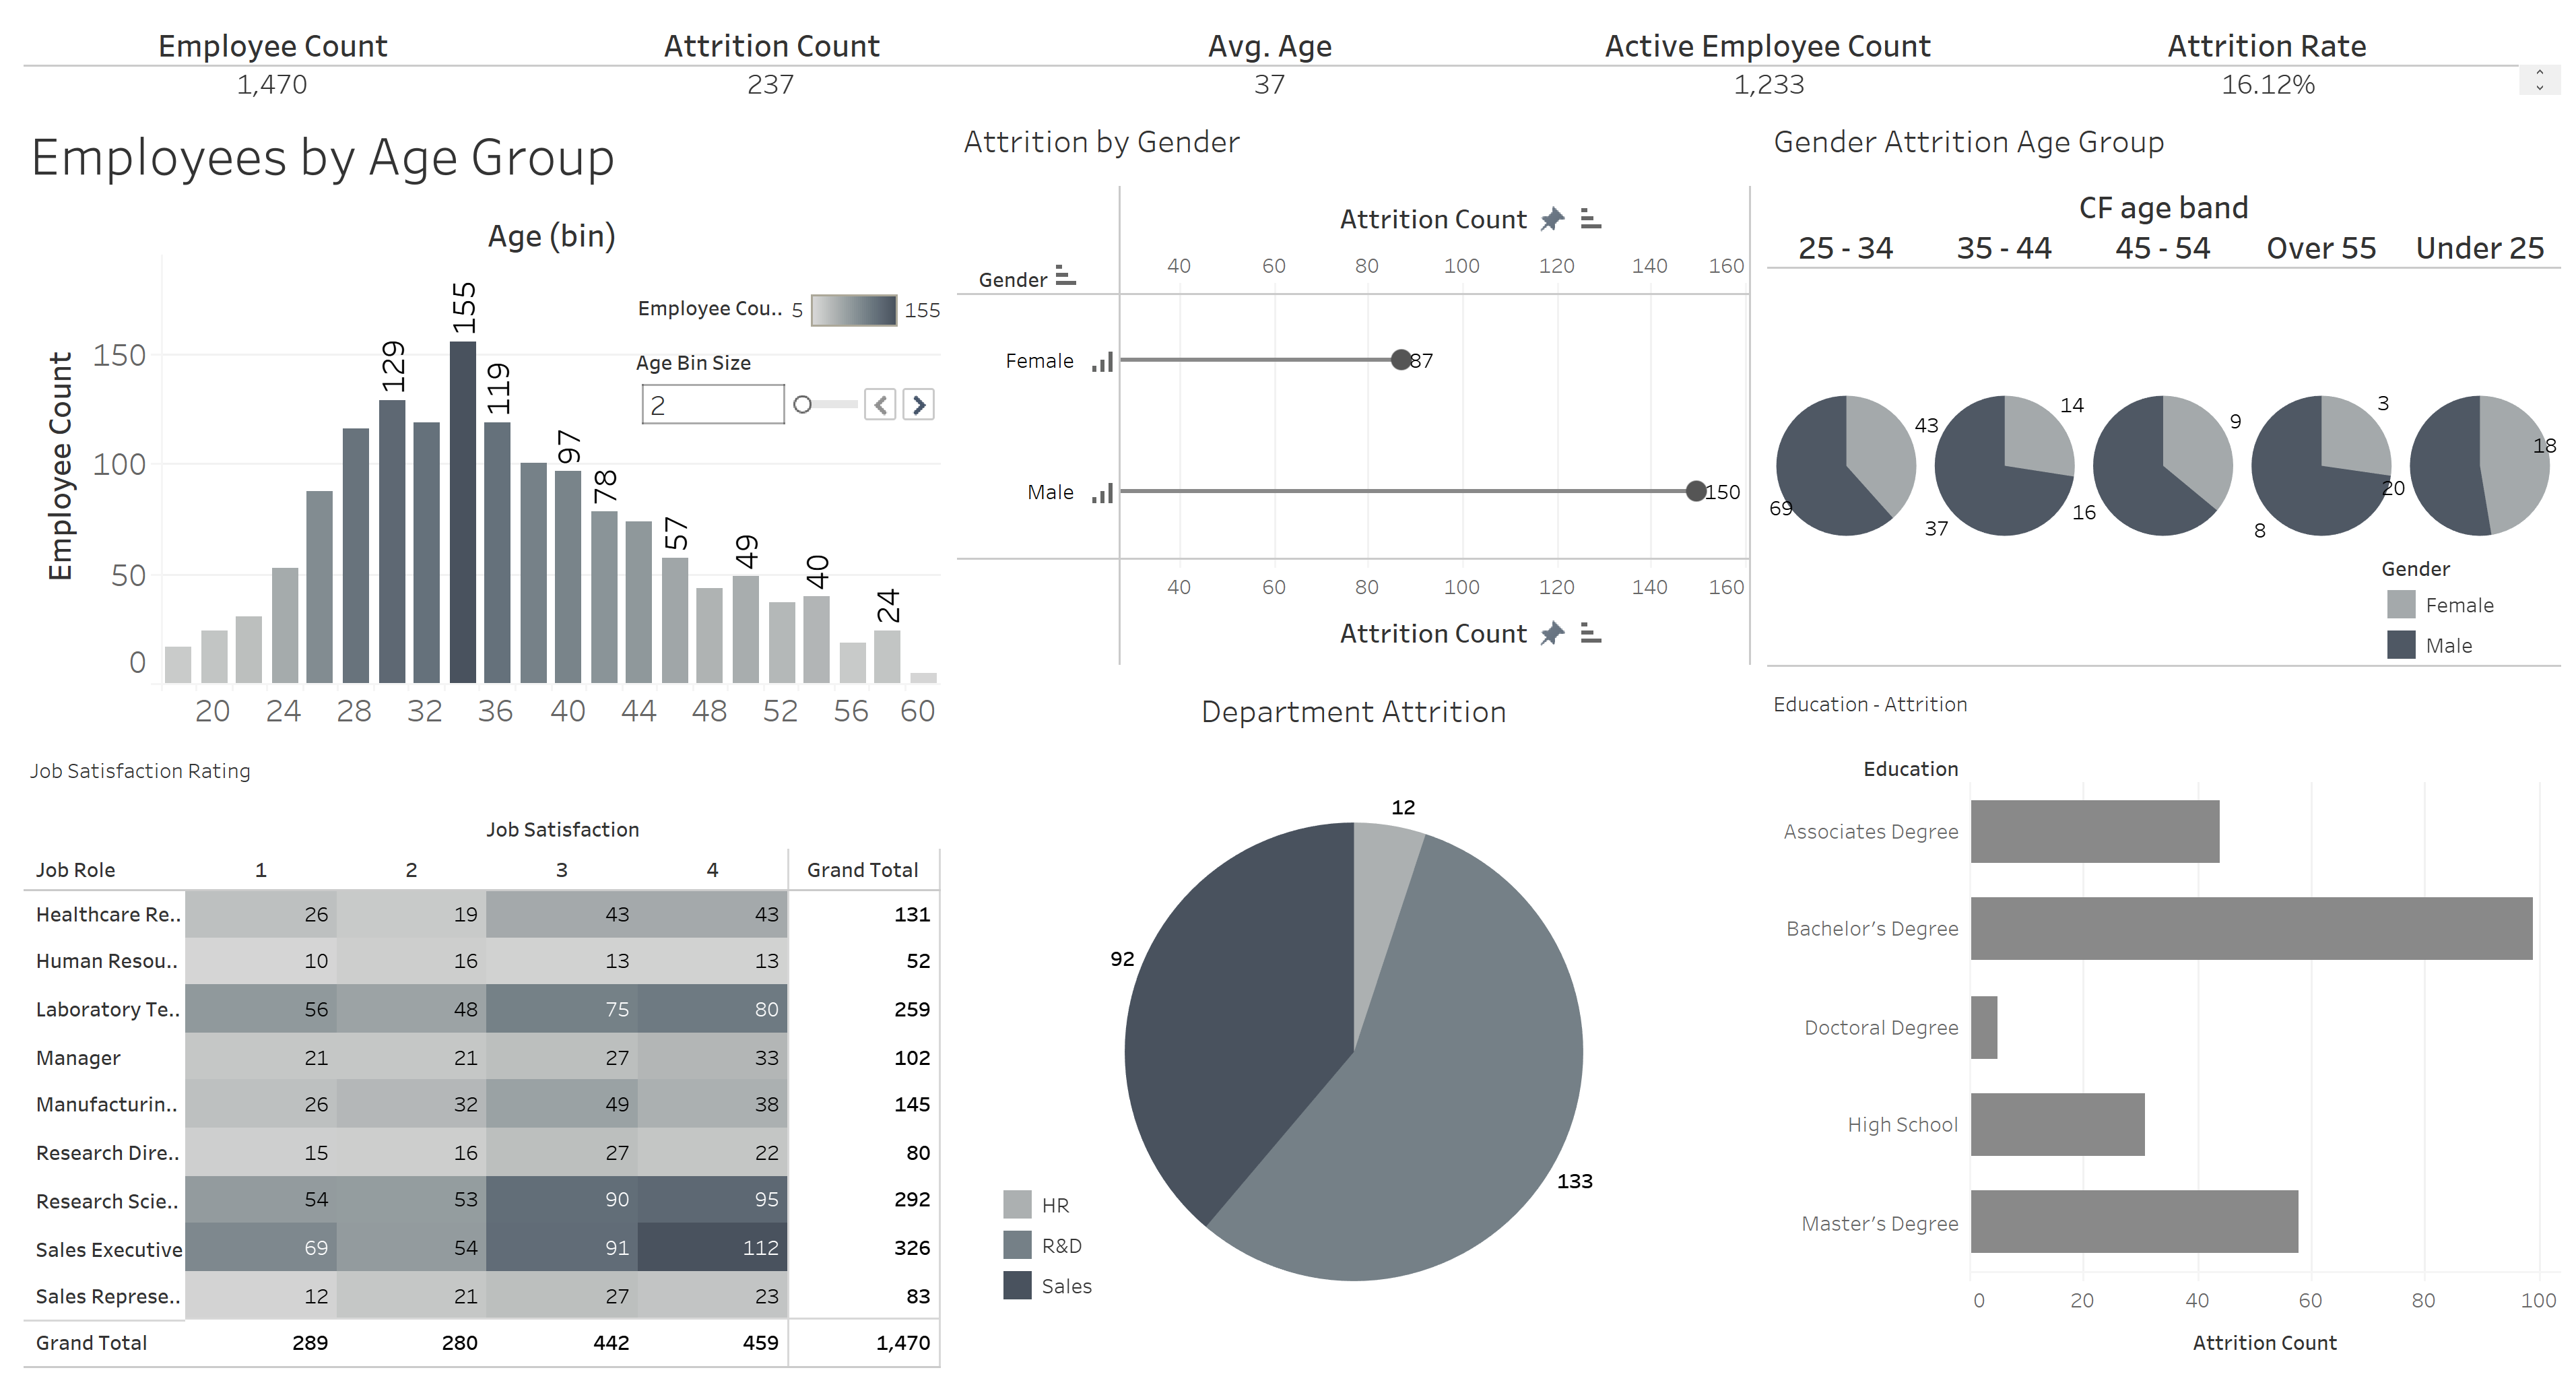

This screenshot's page, from the dashboard's own definition file:
{"tool":"tableau","page":{"name":"HR Dashboard","canvas":[1000,1000],"units":"permille","ordinal":0},"visuals":[{"type":"worksheet","title":"KPI","mark":"Automatic","box":[4.8,8.5,990.3,64.8]},{"type":"worksheet","title":"Employees by Age Group","mark":"Automatic","rows":["Employee Count"],"cols":["Age (bin)"],"box":[4.8,73.3,361.8,458.9]},{"type":"worksheet","title":"Attrition by Gender","mark":"Automatic","rows":["Gender"],"cols":["Calculation_2065181913473581056","Calculation_2065181913473581056"],"box":[366.6,73.3,314.2,410.8]},{"type":"worksheet","title":"Gender Attrition Age Group","mark":"Pie","cols":["CF_age band"],"box":[680.8,73.3,314.3,410.8]},{"type":"legend","title":"Employees by Age Group","param":"[federated.0sk9xsb09nuydx159q4ou06th7kl].[sum:Employee Count:qk]","box":[246.8,205.2,120.9,49.9]},{"type":"parameter","param":"[Parameters].[Parameter 1]","box":[245.8,249.5,118,79.5]},{"type":"legend","title":"Gender Attrition Age Group","param":"[federated.0sk9xsb09nuydx159q4ou06th7kl].[none:Gender:nk]","box":[919.1,396.8,72.4,73.4]},{"type":"worksheet","title":"Department Attrition","mark":"Pie","box":[366.6,484.1,314.2,507.4]},{"type":"worksheet","title":"Education - Attrition","mark":"Automatic","rows":["Education"],"cols":["Calculation_2065181913473581056"],"box":[680.8,484.1,314.4,507.4]},{"type":"worksheet","title":"Job Satisfaction Rating","mark":"Automatic","rows":["Job Role"],"cols":["Job Satisfaction"],"box":[4.8,532.3,361.8,459.2]},{"type":"legend","title":"Department Attrition","param":"[federated.0sk9xsb09nuydx159q4ou06th7kl].[none:Department:nk]","box":[386.2,849,65.8,123.1]}]}

Visuals, with their boxes on the dashboard's canvas, which has no fixed pixel size, in thousandths of its width and height (x1, y1, x2, y2). These are canvas units, not pixel positions in the 2576x1393 screenshot, which may show the page scaled, cropped or inside an application window:
"KPI" worksheet: (5,8,995,73)
"Employees by Age Group" worksheet: (5,73,367,532)
"Attrition by Gender" worksheet: (367,73,681,484)
"Gender Attrition Age Group" worksheet (Pie marks): (681,73,995,484)
"Employees by Age Group" legend: (247,205,368,255)
parameter: (246,250,364,329)
"Gender Attrition Age Group" legend: (919,397,992,470)
"Department Attrition" worksheet (Pie marks): (367,484,681,992)
"Education - Attrition" worksheet: (681,484,995,992)
"Job Satisfaction Rating" worksheet: (5,532,367,992)
"Department Attrition" legend: (386,849,452,972)
